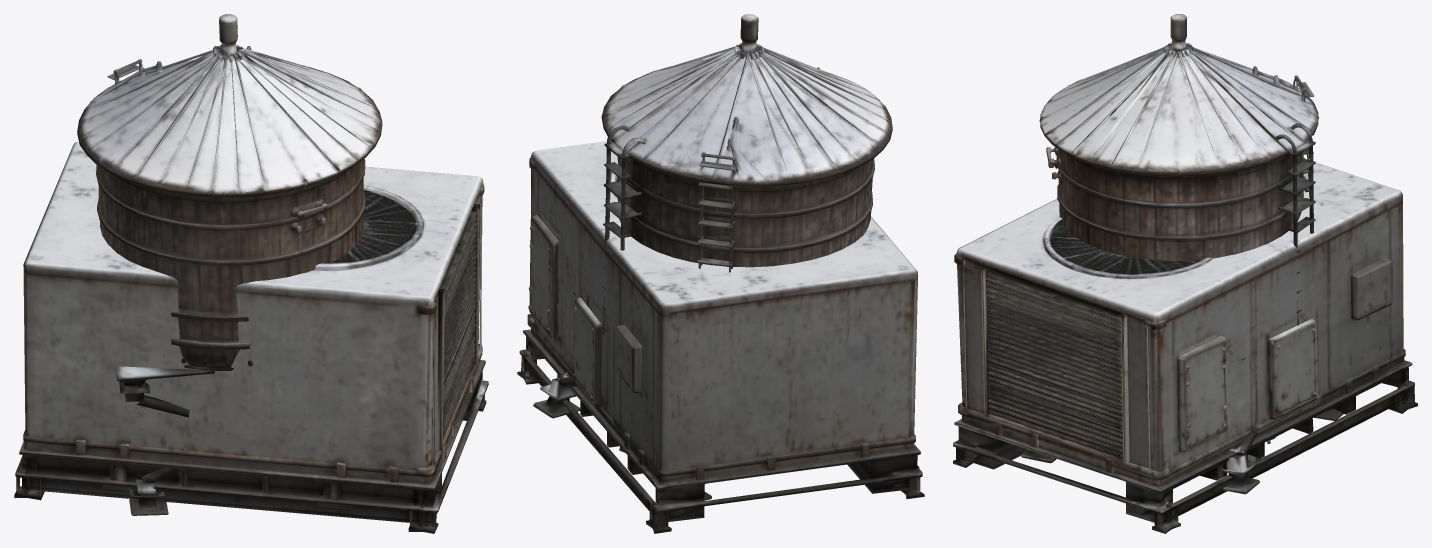
File: rooftop-4k.glb
3 renders of one model, left to right at view 1: azimuth 30°, elevation 25°; view 2: azimuth 150°, elevation 25°; view 3: azimuth 270°, elevation 25°, orthographic. The views are drawn at different scales.
Visible parts, largest first — view 1: rf-ac-big, rf-watertank; view 2: rf-ac-big, rf-watertank; view 3: rf-ac-big, rf-watertank.
Boxes of the visible parts, x1=… form: rf-ac-big: x1=14, y1=142, x2=488, y2=533; rf-watertank: x1=77, y1=14, x2=382, y2=515; rf-ac-big: x1=517, y1=141, x2=924, y2=533; rf-watertank: x1=533, y1=14, x2=892, y2=500; rf-ac-big: x1=953, y1=162, x2=1417, y2=533; rf-watertank: x1=1021, y1=14, x2=1343, y2=494.
Bounding box in the file's own units: 0.3428 × 0.3257 × 0.3345.
Materials: 1 (1 with a texture image).
